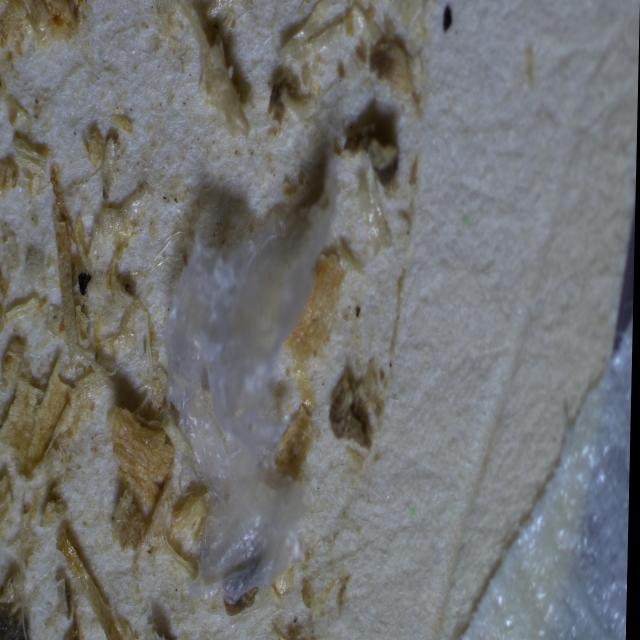microplastic: (101, 115, 406, 619)
